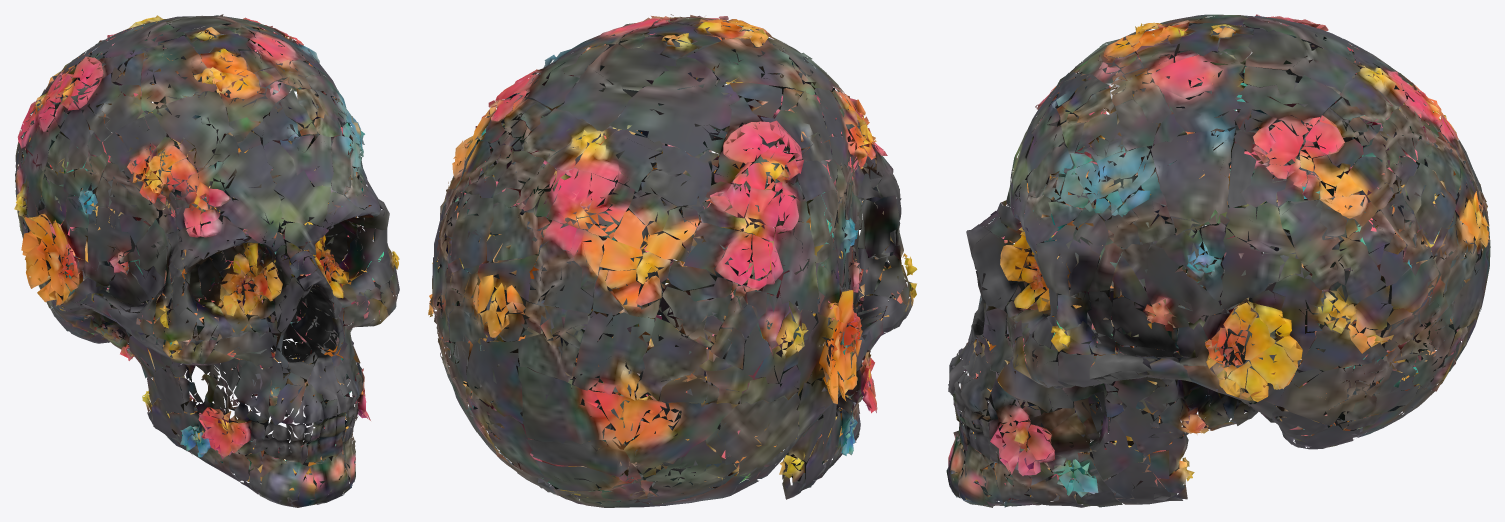
File: black_mexican_skull_with_flower_pattern.glb
The picture shows the model from 3 angles, left to right: view 1: azimuth 30°, elevation 25°; view 2: azimuth 150°, elevation 25°; view 3: azimuth 270°, elevation 25°; orthographic projection. The views are drawn at different scales.
Visible parts, largest first — view 1: Object_4, Object_6, Object_5, Object_7, Object_8, Object_9, Object_10; view 2: Object_5, Object_6, Object_4, Object_7, Object_8, Object_9, Object_10; view 3: Object_5, Object_4, Object_6, Object_7, Object_8, Object_9, Object_10.
Boxes of the visible parts, x1,y1,x2,y2 form: Object_4: (20,14,398,490); Object_6: (15,15,399,507); Object_5: (15,15,399,503); Object_7: (14,24,391,507); Object_8: (15,20,399,504); Object_9: (15,17,397,501); Object_10: (17,22,393,493); Object_5: (432,16,917,504); Object_6: (429,20,916,505); Object_4: (428,15,911,507); Object_7: (430,16,905,500); Object_8: (430,18,912,496); Object_9: (437,15,914,499); Object_10: (437,14,911,505); Object_5: (946,14,1490,506); Object_4: (948,15,1490,507); Object_6: (948,14,1489,504); Object_7: (949,17,1486,507); Object_8: (948,16,1484,507); Object_9: (956,16,1487,506); Object_10: (950,15,1488,501).
Bounding box in the file's own units: 1.57 × 1.87 × 2.
1 material, 1 textured.
